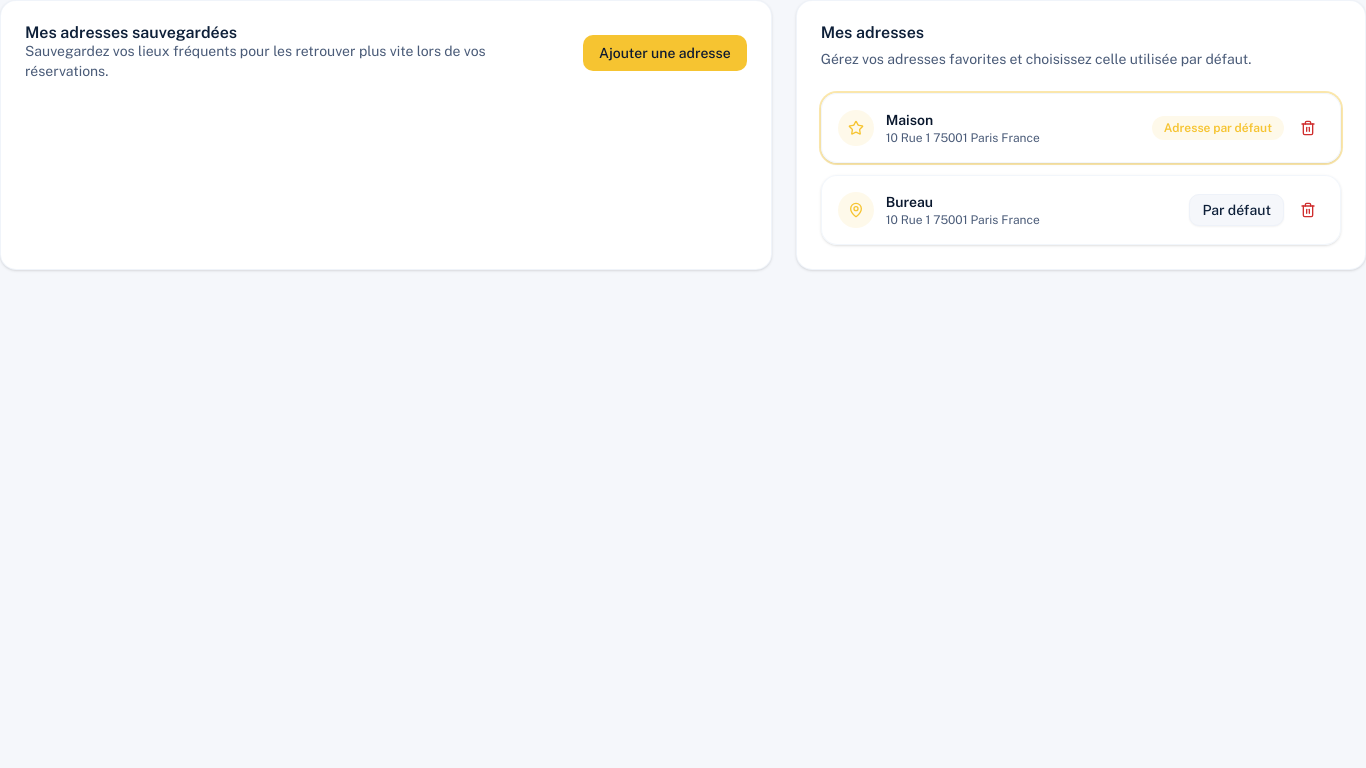
Scenario: UserAddressesManager flows › deletes an address after confirmation
The width and height of the screenshot is (1366, 768).
Click the button named "supprimer bureau". click: click(1308, 210)
box: [1292, 194, 1324, 226]
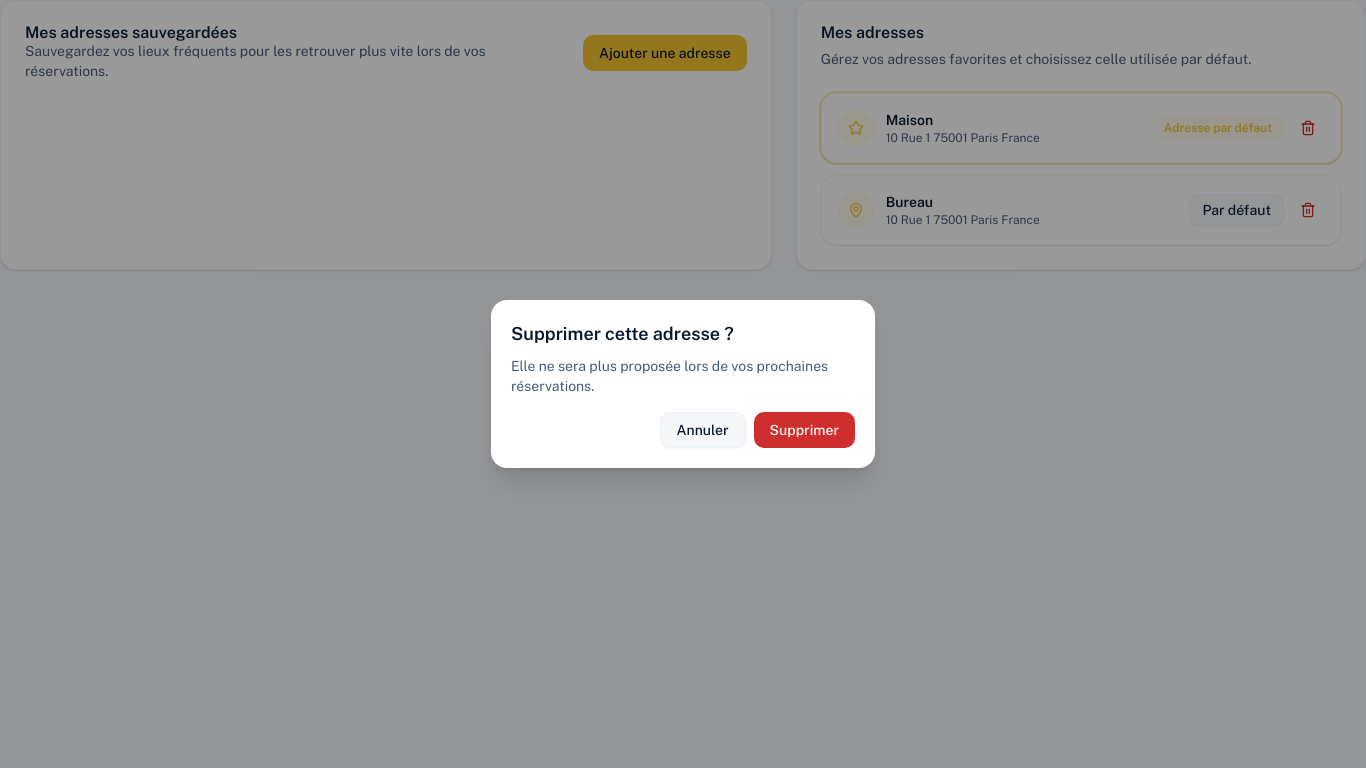
Click the button "Supprimer". click: click(804, 430)
box: [754, 412, 855, 448]
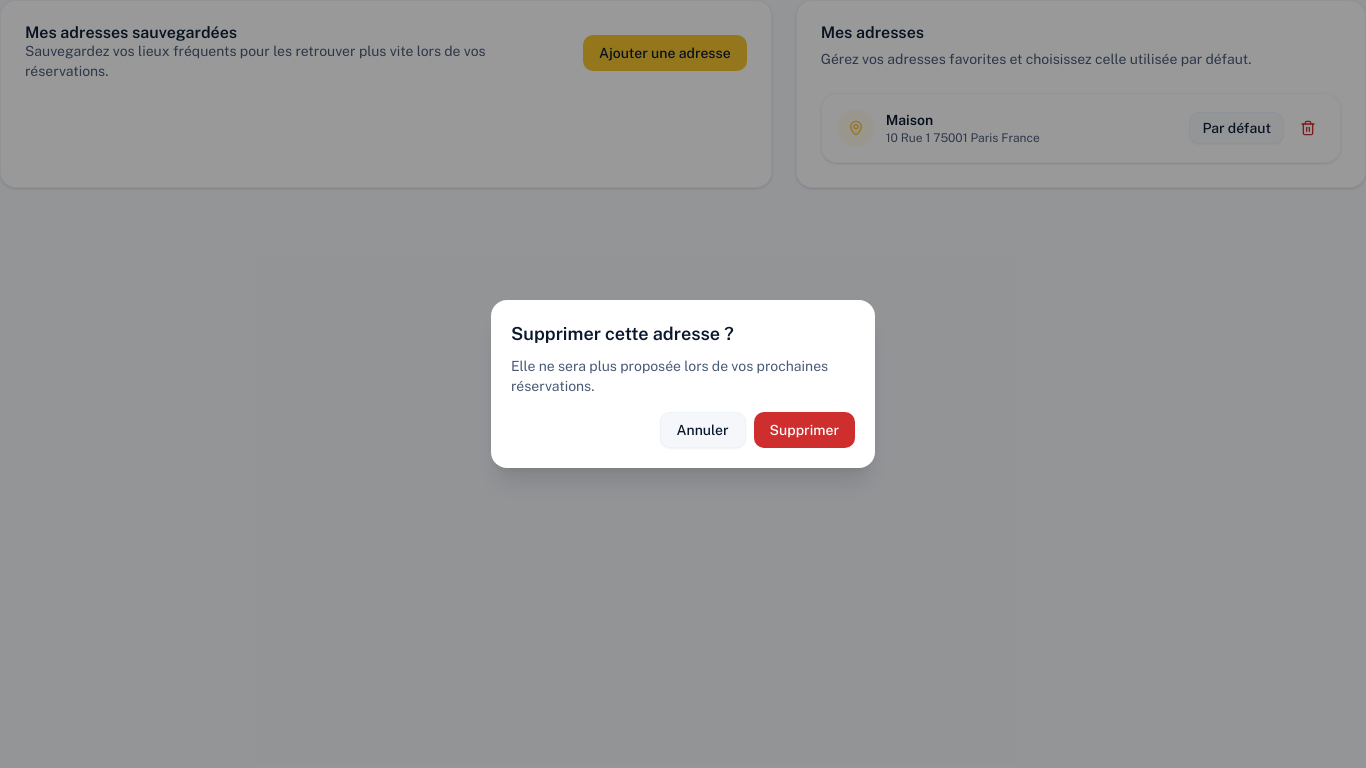
Check: the text "Bureau" is gone
